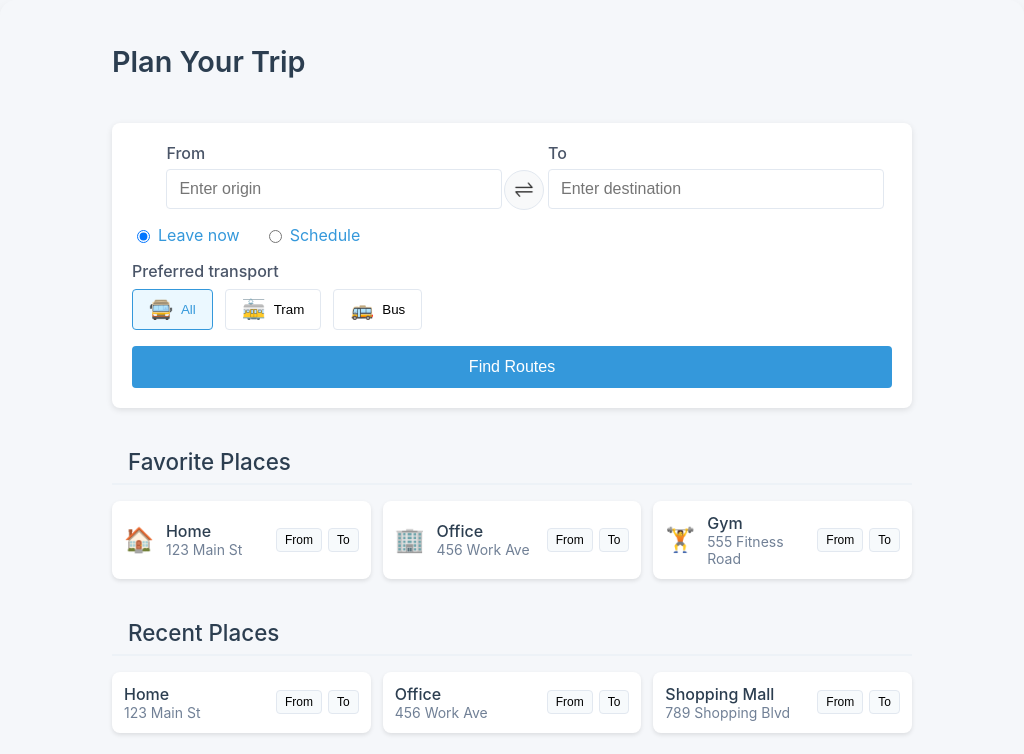
it: PlanTripPage 组件测试 › 选择出发时间类型
Check: the radio button labelled "Leave now" is checked, box [137,230,150,243]
// 点击"预定时间"
Click the radio button labelled "Schedule".
click(275, 236)  # box [269,230,282,243]
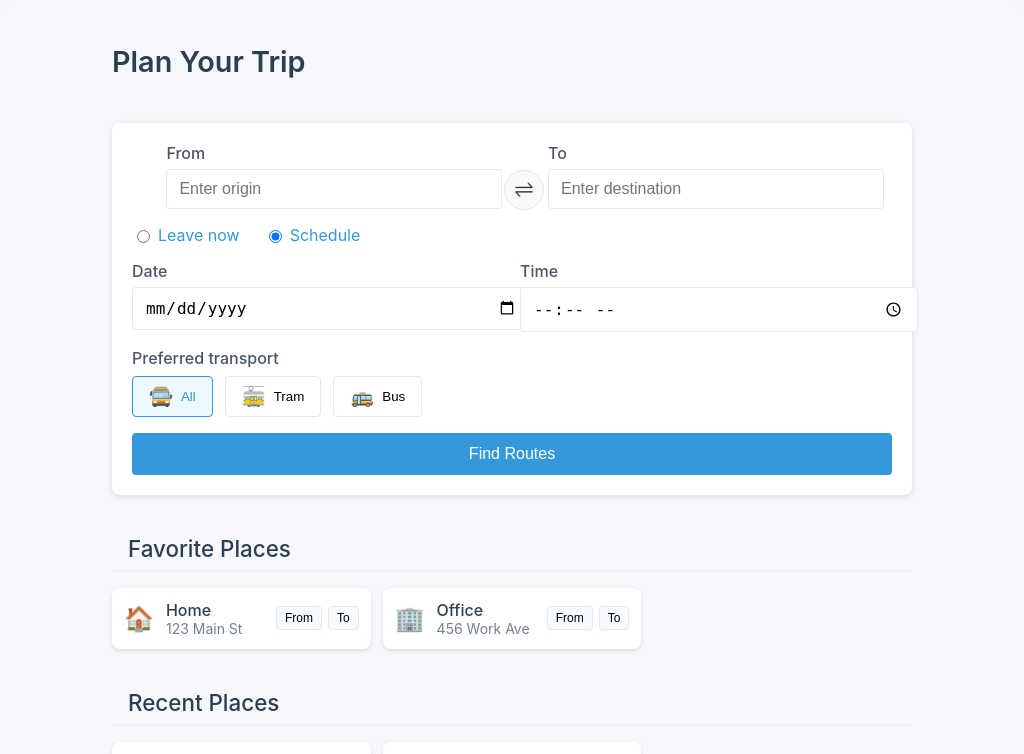
Check: the radio button labelled "Schedule" is checked, box [269,230,282,243]
Check: the radio button labelled "Leave now" is not checked, box [137,230,150,243]
Check: the date field labelled "Date" is shown, box [132,287,530,330]
